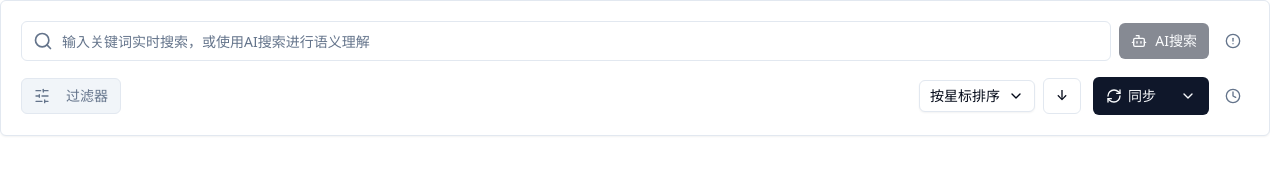
Test: SearchBar › selects a search history item before the blur delay hides the dropdown
Focus the field: (566, 41) [21,21,1111,61]
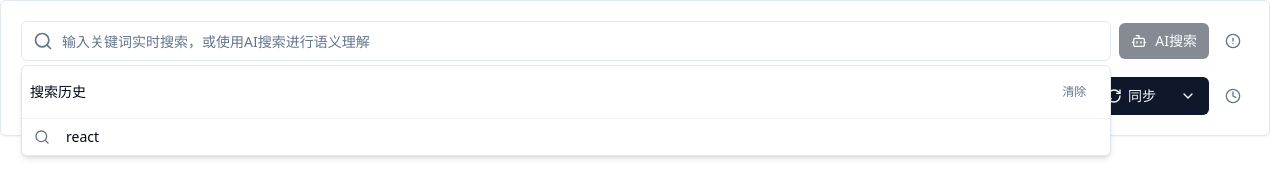
Click the button "react": (83, 136) [22,119,1110,155]
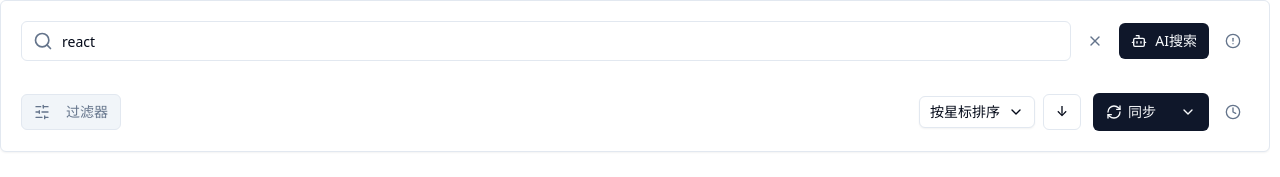
expect the field holds "react": met, box [21,21,1071,61]
